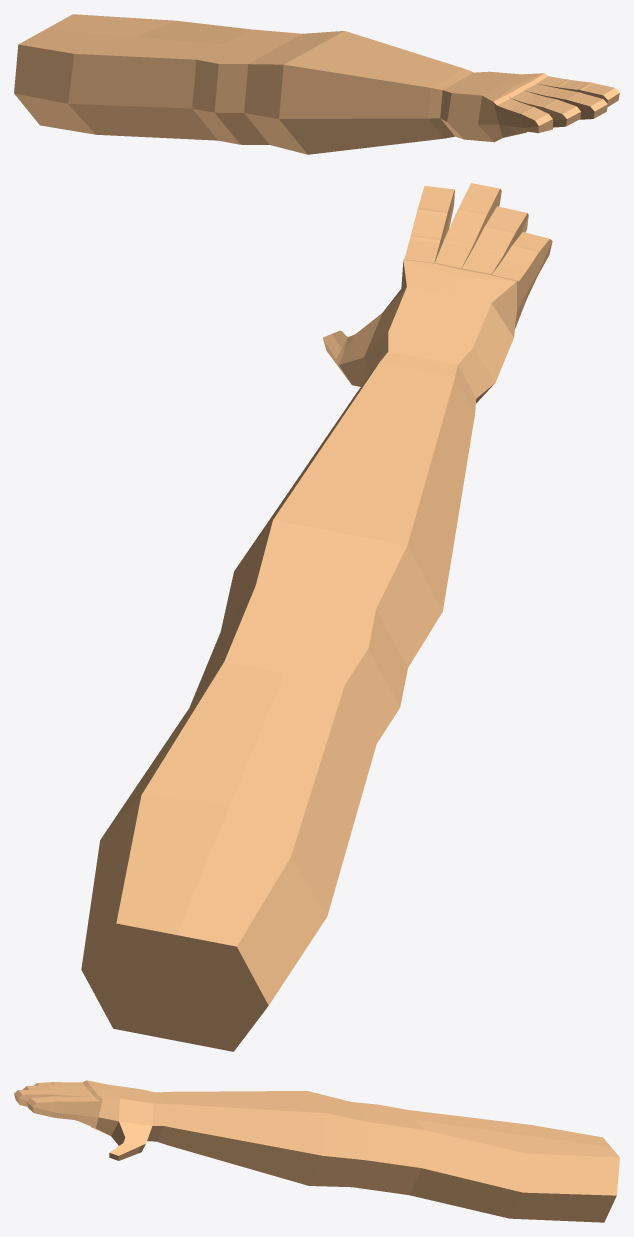
File: armTestingPos.glb
The picture shows the model from 3 angles, top to bottom: view 1: azimuth 30°, elevation 25°; view 2: azimuth 150°, elevation 25°; view 3: azimuth 270°, elevation 25°; orthographic projection. The views are drawn at different scales.
Visible parts, largest first — view 1: Cube.001_Material.001_0; view 2: Cube.001_Material.001_0; view 3: Cube.001_Material.001_0.
Boxes of the visible parts, <box> form: Cube.001_Material.001_0: <box>14,14,619,154</box>; Cube.001_Material.001_0: <box>81,183,552,1051</box>; Cube.001_Material.001_0: <box>14,1080,619,1222</box>.
Bounding box in the file's own units: 0.5332 × 0.4577 × 1.34.
